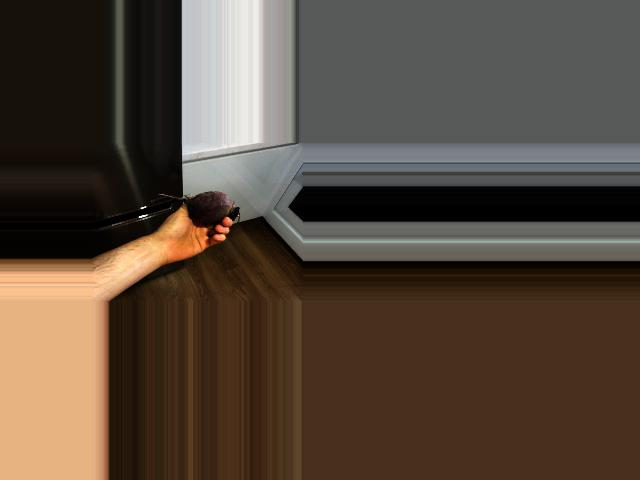beet: (159, 191, 240, 223)
